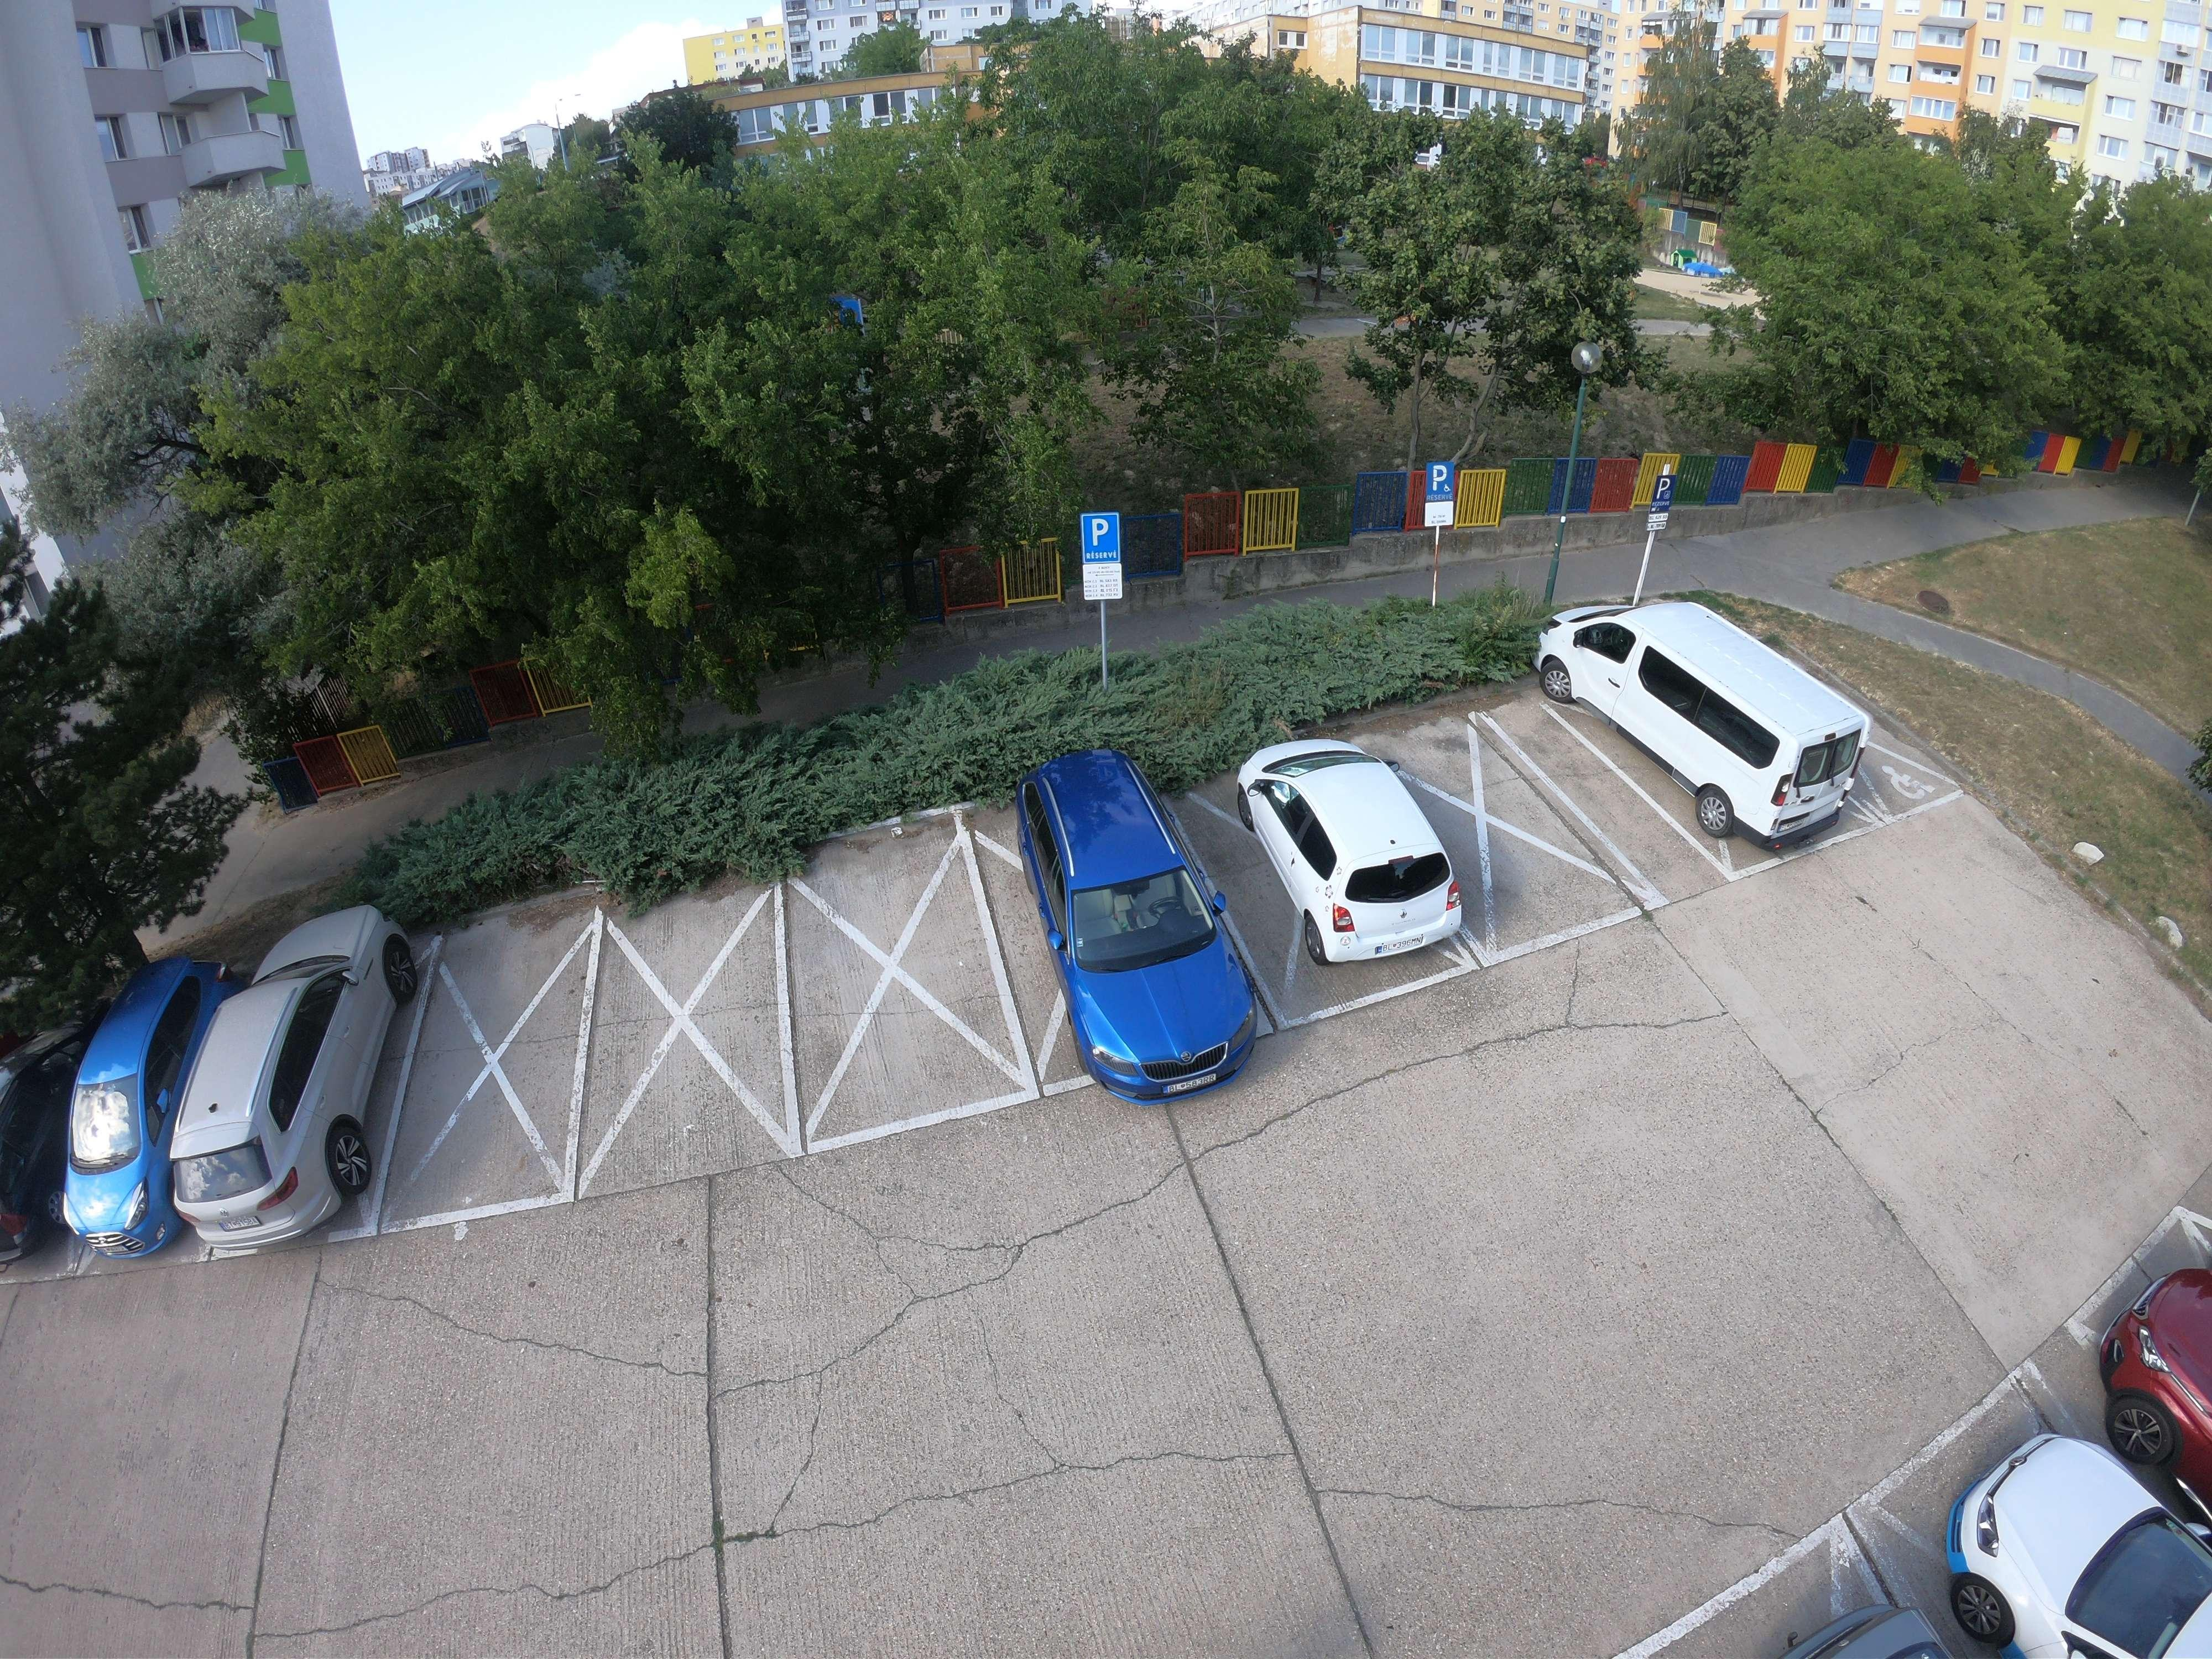empty: (1944, 1255, 2212, 1659), (991, 753, 1273, 1098), (1548, 592, 1883, 849), (160, 917, 415, 1248), (1237, 735, 1475, 971), (23, 976, 176, 1260)
occupied: (805, 903, 972, 1061), (608, 950, 754, 1098), (439, 978, 559, 1131), (1480, 763, 1571, 838)
